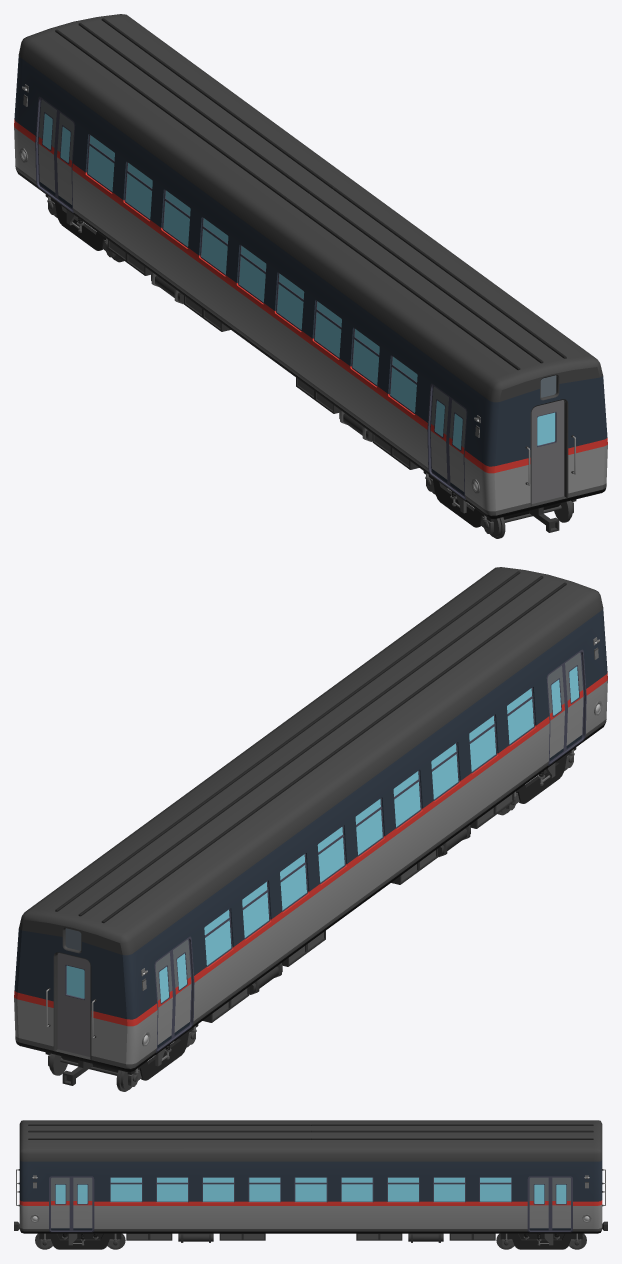
Rendered from SM_Vehicles_Train_02.fbx.
3 views of the same model, one above another, from view 1: azimuth 30°, elevation 25°; view 2: azimuth 150°, elevation 25°; view 3: azimuth 270°, elevation 25° (orthographic). The views are drawn at different scales.
Visible parts, largest first — view 1: SM_Vehicles_Train_02, SM_Vehicles_Train_02_Door_9, SM_Vehicles_Train_02_Door_8, SM_Vehicles_Train_02_Door_4, SM_Vehicles_Train_02_Door_7, SM_Vehicles_Train_02_Door_3; view 2: SM_Vehicles_Train_02, SM_Vehicles_Train_02_Door_10, SM_Vehicles_Train_02_Door_3, SM_Vehicles_Train_02_Door_7, SM_Vehicles_Train_02_Door_4, SM_Vehicles_Train_02_Door_8; view 3: SM_Vehicles_Train_02, SM_Vehicles_Train_02_Door_2, SM_Vehicles_Train_02_Door_5, SM_Vehicles_Train_02_Door_1, SM_Vehicles_Train_02_Door_6.
Part boxes in pixels (x1=…): SM_Vehicles_Train_02: x1=14, y1=14, x2=607, y2=538; SM_Vehicles_Train_02_Door_9: x1=531, y1=400, x2=564, y2=503; SM_Vehicles_Train_02_Door_8: x1=37, y1=99, x2=58, y2=197; SM_Vehicles_Train_02_Door_4: x1=430, y1=386, x2=450, y2=485; SM_Vehicles_Train_02_Door_7: x1=55, y1=111, x2=74, y2=209; SM_Vehicles_Train_02_Door_3: x1=447, y1=399, x2=466, y2=496; SM_Vehicles_Train_02: x1=14, y1=567, x2=607, y2=1091; SM_Vehicles_Train_02_Door_10: x1=57, y1=953, x2=90, y2=1056; SM_Vehicles_Train_02_Door_3: x1=563, y1=652, x2=584, y2=750; SM_Vehicles_Train_02_Door_7: x1=171, y1=939, x2=191, y2=1038; SM_Vehicles_Train_02_Door_4: x1=547, y1=664, x2=566, y2=762; SM_Vehicles_Train_02_Door_8: x1=155, y1=952, x2=174, y2=1049; SM_Vehicles_Train_02: x1=14, y1=1120, x2=607, y2=1249; SM_Vehicles_Train_02_Door_2: x1=71, y1=1177, x2=93, y2=1230; SM_Vehicles_Train_02_Door_5: x1=528, y1=1177, x2=550, y2=1230; SM_Vehicles_Train_02_Door_1: x1=50, y1=1177, x2=71, y2=1230; SM_Vehicles_Train_02_Door_6: x1=550, y1=1177, x2=571, y2=1230.
Bounding box in the file's own units: 3.02 × 4.17 × 20.68.
